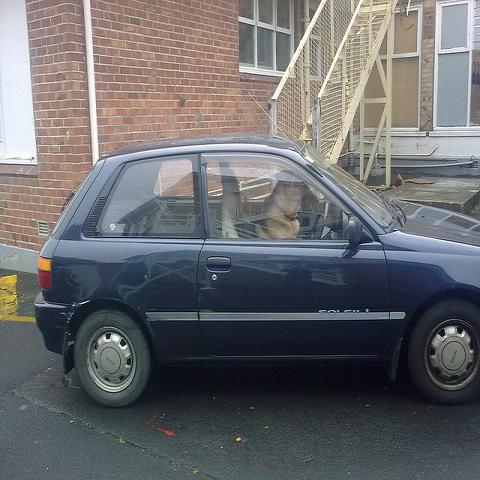car: (33, 138, 478, 400)
